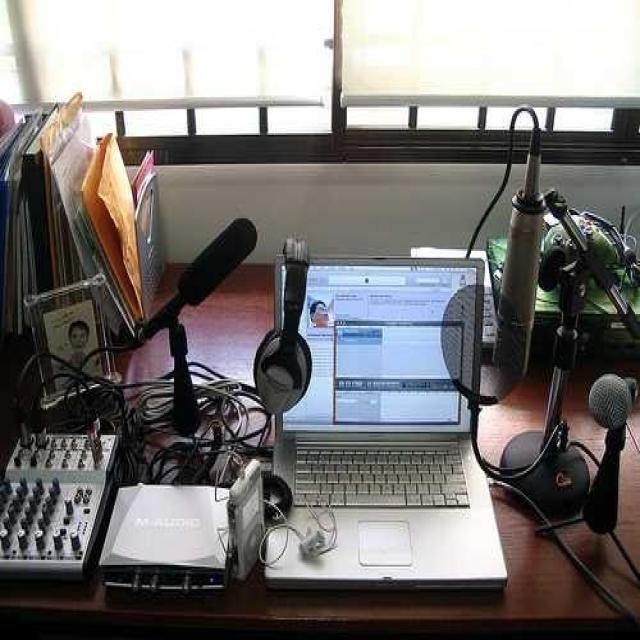microphone: (490, 121, 546, 395), (145, 217, 258, 338), (583, 374, 636, 533)
